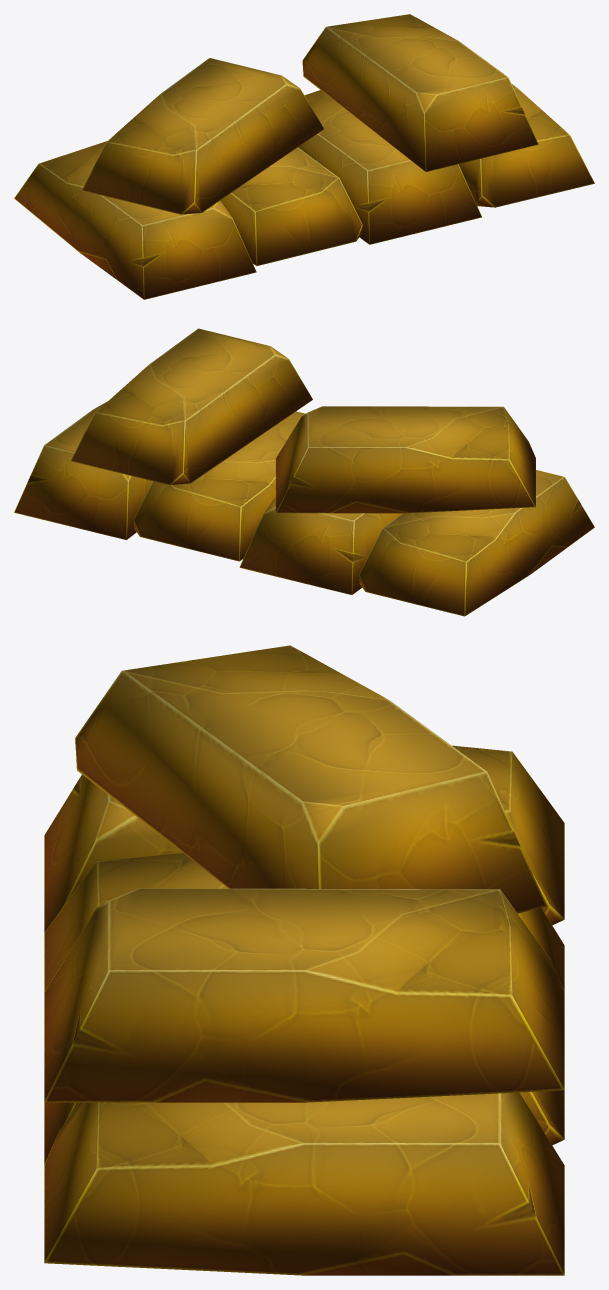
The model's file is Gold-18.fbx.
The picture shows the model from 3 angles, top to bottom: view 1: azimuth 30°, elevation 25°; view 2: azimuth 150°, elevation 25°; view 3: azimuth 270°, elevation 25°; orthographic projection. The views are drawn at different scales.
Visible parts, largest first — view 1: Gold-18; view 2: Gold-18; view 3: Gold-18.
Boxes of the visible parts, box(x1,y1,x2,y2) form: Gold-18: box(14, 14, 594, 299); Gold-18: box(14, 328, 594, 616); Gold-18: box(44, 645, 564, 1275).
Bounding box in the file's own units: 0.3012 × 0.075 × 0.15.
1 material, 1 textured.
